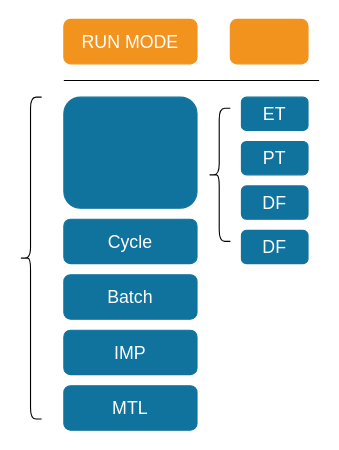
Some shapes in this 339 by 450 pixel diagram are drawn without their labels. Here are the shapes that lost their labels. From the top down, the centre of each, then its label:
At [268,41]: "AREA".
At [130,152]: "Single".
